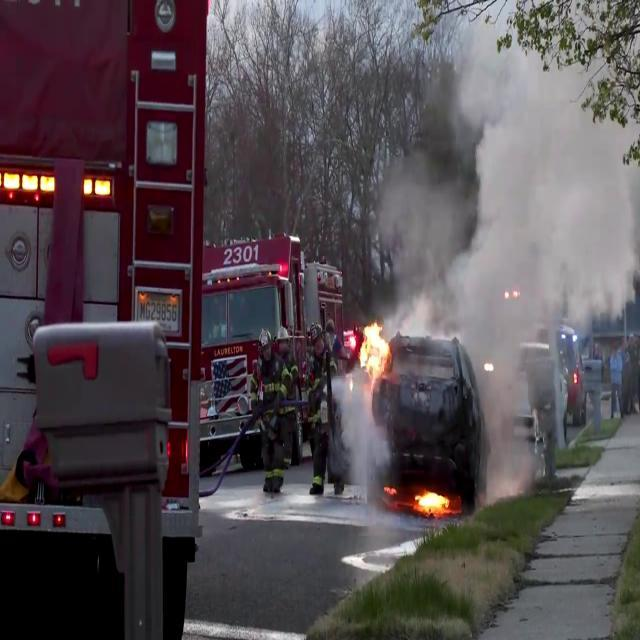Fire: (349, 312, 391, 382), (411, 480, 453, 522)
Smoke: (392, 24, 640, 480), (335, 367, 393, 515)
